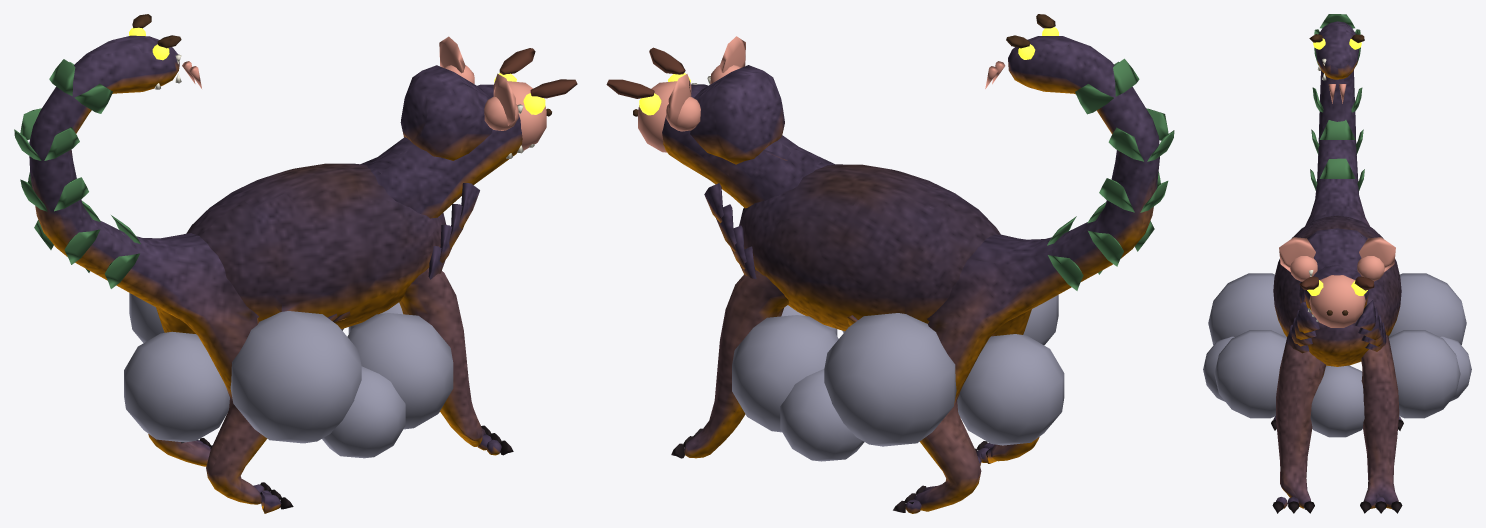
The model's file is nue.glb.
The picture shows the model from 3 angles, left to right: view 1: azimuth 30°, elevation 25°; view 2: azimuth 150°, elevation 25°; view 3: azimuth 270°, elevation 25°; orthographic projection. The views are drawn at different scales.
Visible parts, largest first — view 1: nue.001; view 2: nue.001; view 3: nue.001.
Boxes of the visible parts, x1=… form: nue.001: x1=14, y1=14, x2=577, y2=513; nue.001: x1=606, y1=14, x2=1174, y2=513; nue.001: x1=1203, y1=14, x2=1471, y2=513.
Size of the model in its own units: 1.84 by 1.56 by 1.05.
8 materials, 1 textured.
